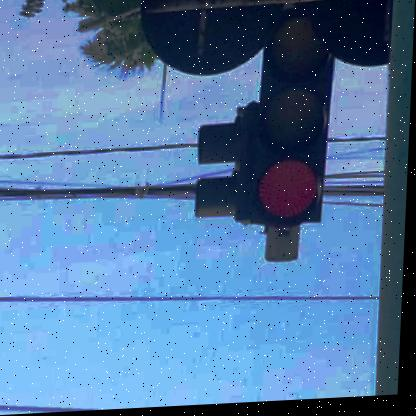Traffic Light -Red-: (251, 16, 338, 230)
